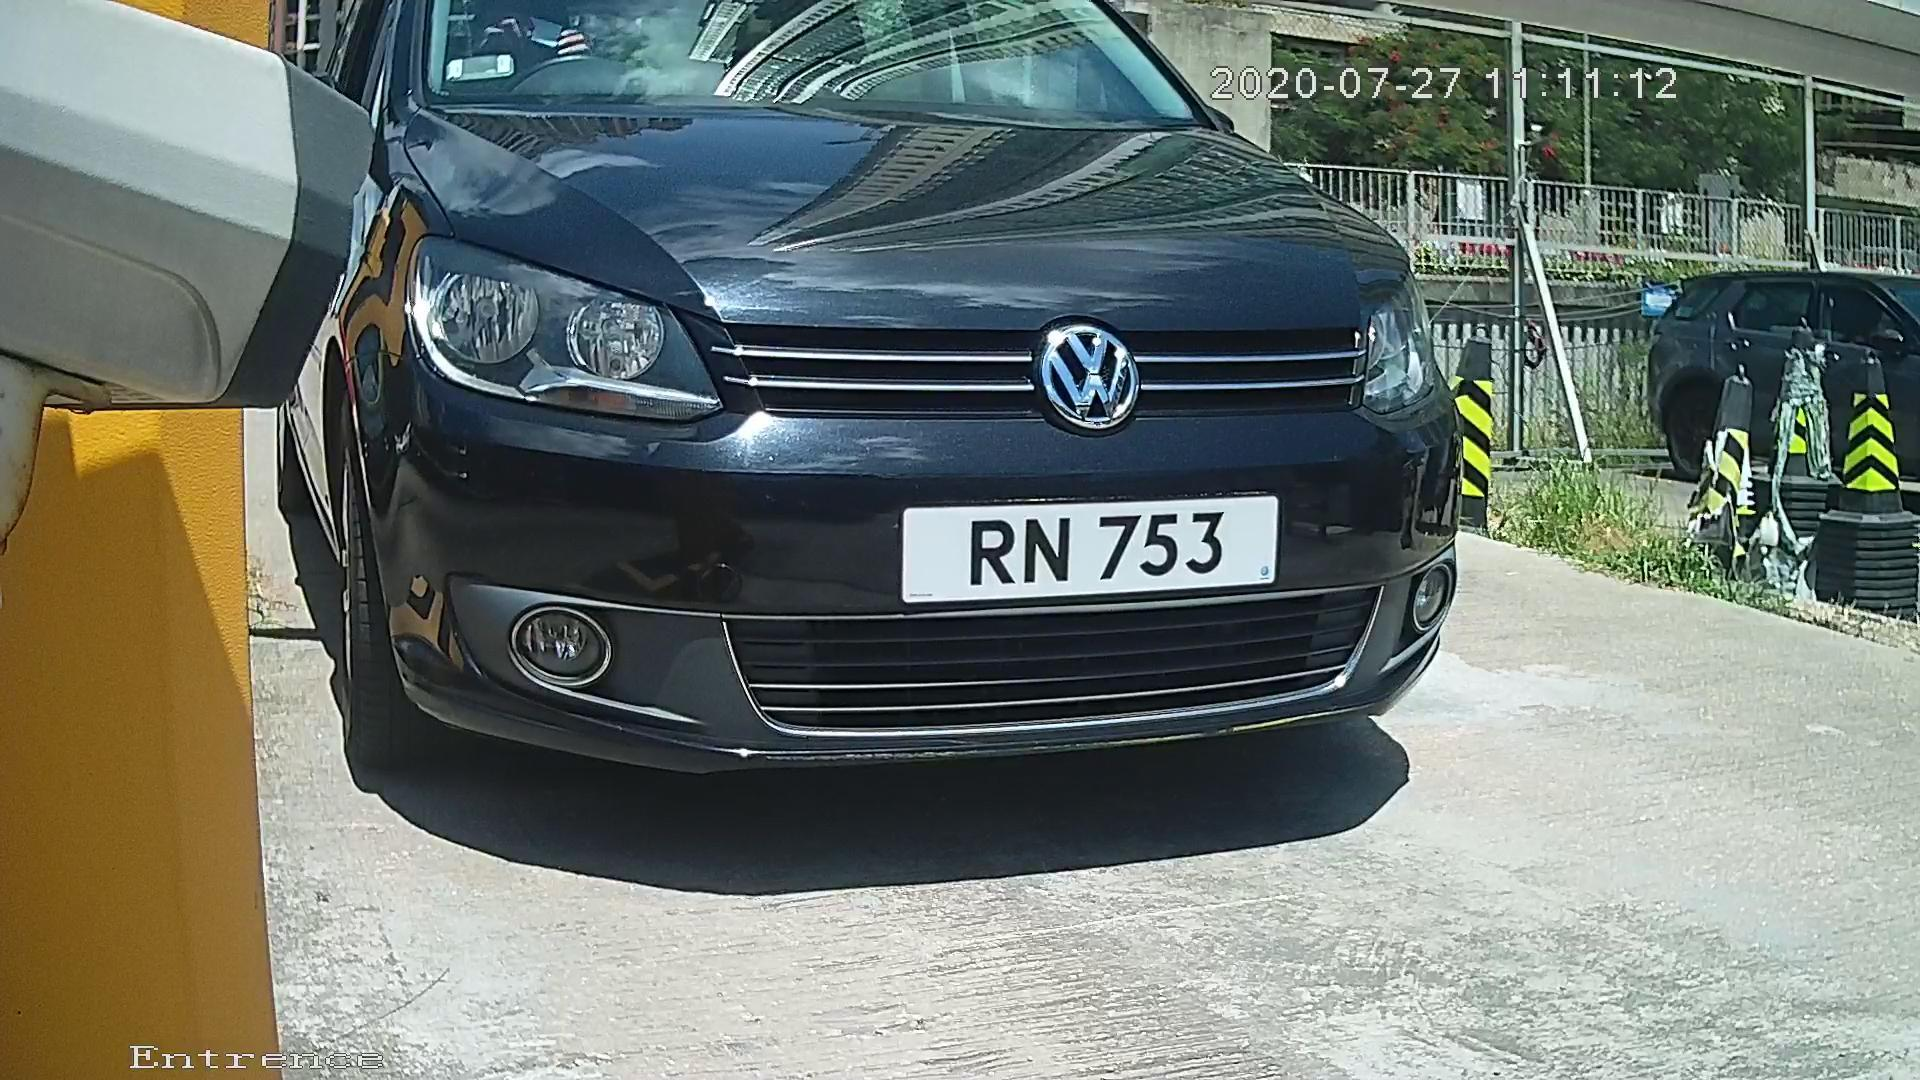Car: (181, 44, 1518, 835)
License Plate: (866, 483, 1303, 613)
